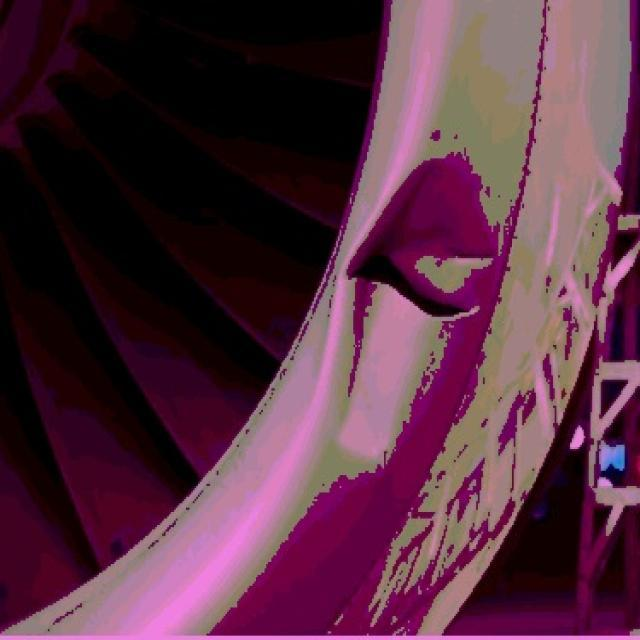crack: (342, 244, 484, 327)
